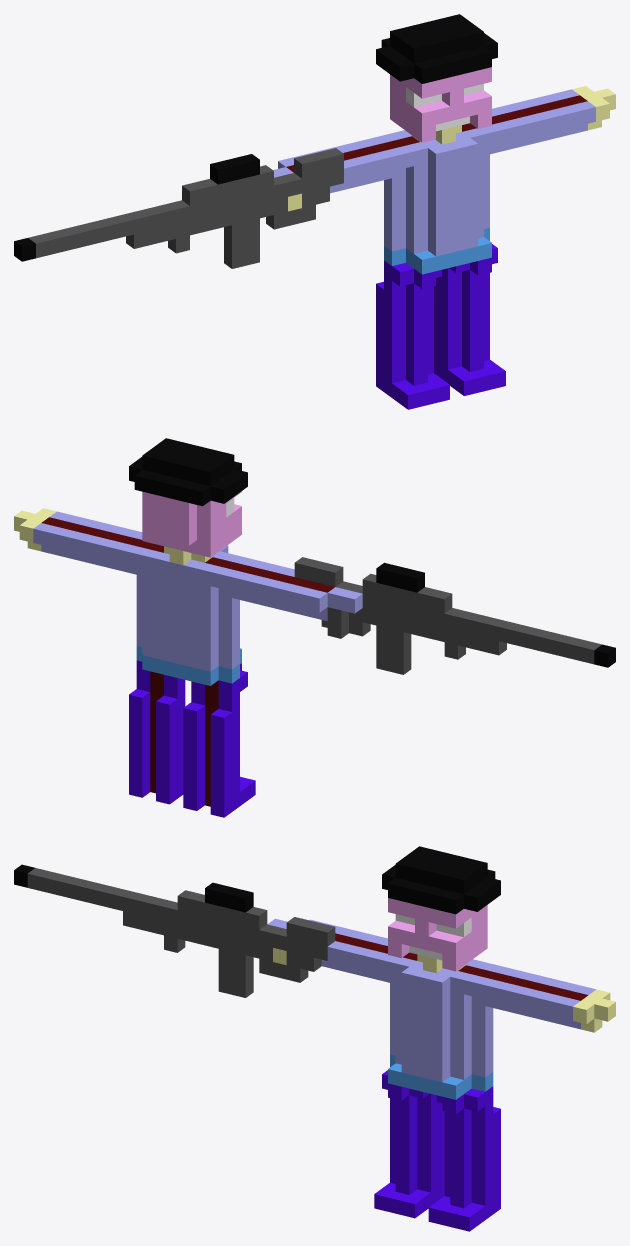
The model's file is gm_hero_1.cube.obj.
The picture shows the model from 3 angles, top to bottom: view 1: azimuth 30°, elevation 25°; view 2: azimuth 150°, elevation 25°; view 3: azimuth 330°, elevation 25°; orthographic projection. The views are drawn at different scales.
Size of the model in its own units: 43 by 24 by 5.
Materials: 1 (1 with a texture image).
